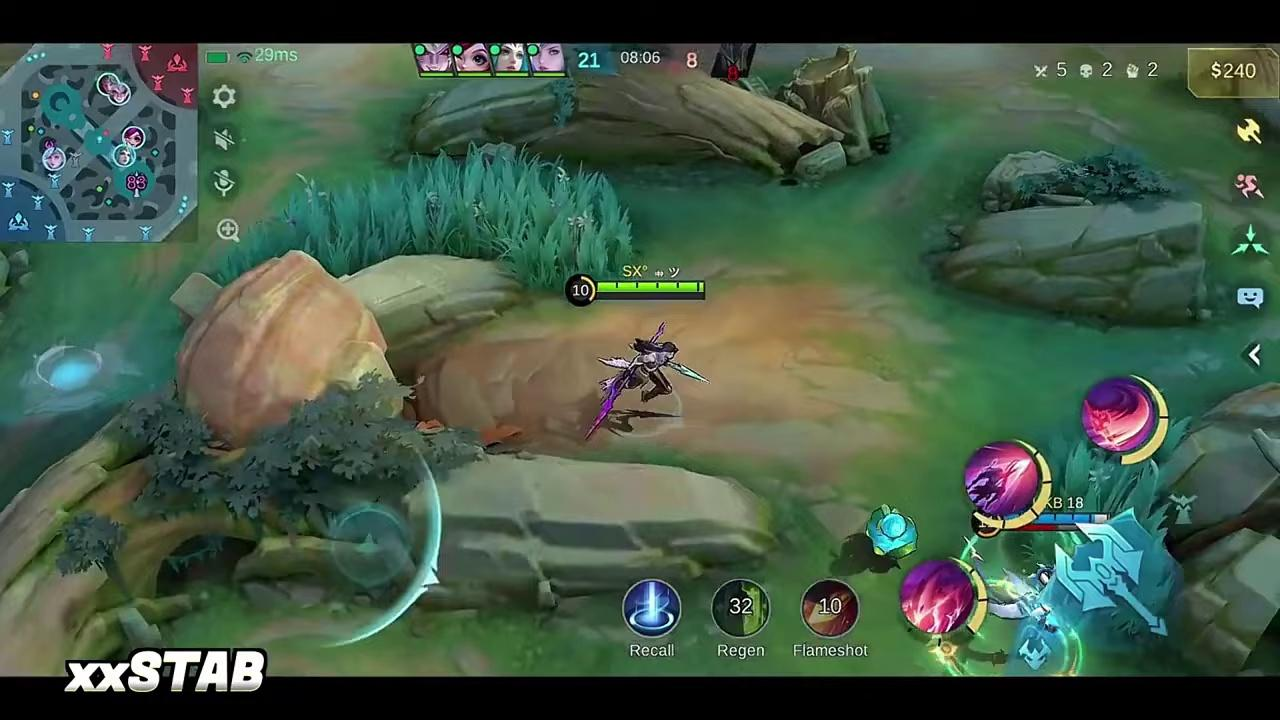Adc_Aliado: (42, 149, 69, 171)
Arbusto: (217, 151, 644, 294)
Argos: (586, 320, 706, 442)
Exp_Aliado: (96, 73, 120, 94)
HP_Heroe_Principal: (596, 281, 702, 291)
Jungla_Aliado: (110, 82, 130, 106)
Mid_Aliado: (114, 144, 136, 167)
Minimapa: (0, 42, 199, 244)
Roamer_Aliado: (121, 127, 146, 148)
Skill1: (897, 563, 977, 637)
Skill2: (962, 435, 1052, 533), (965, 442, 1048, 533)
skill3: (1082, 373, 1169, 462)
